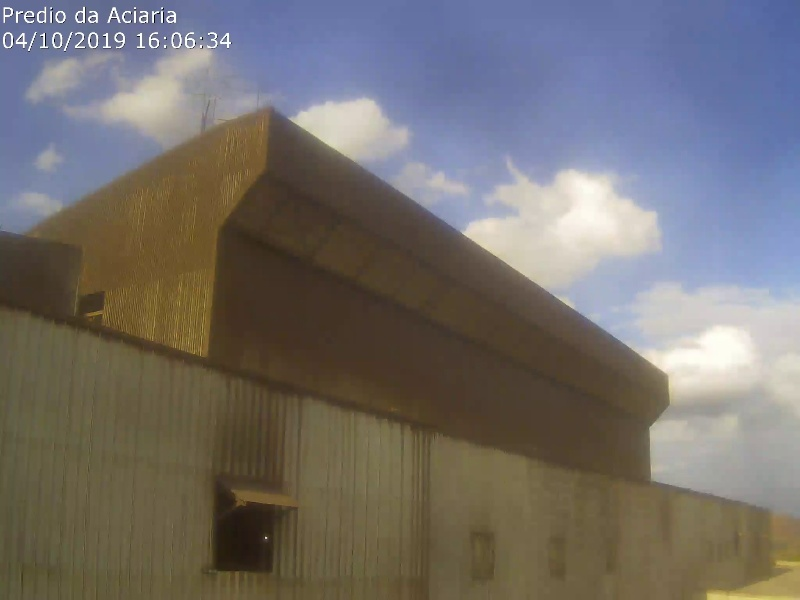bom: (354, 3, 784, 392)
